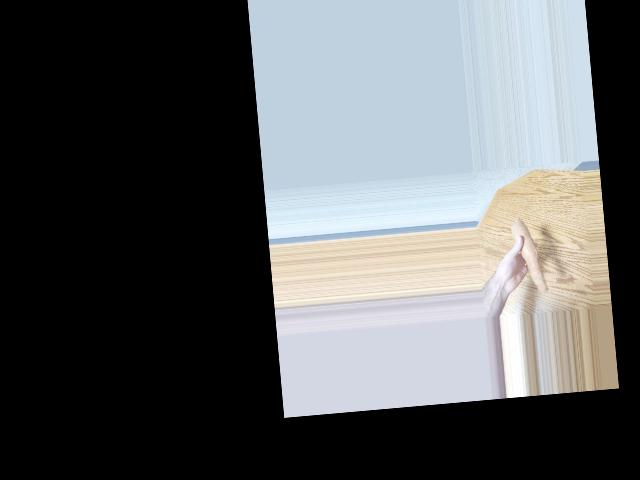sweet_potato: (514, 218, 542, 299)
